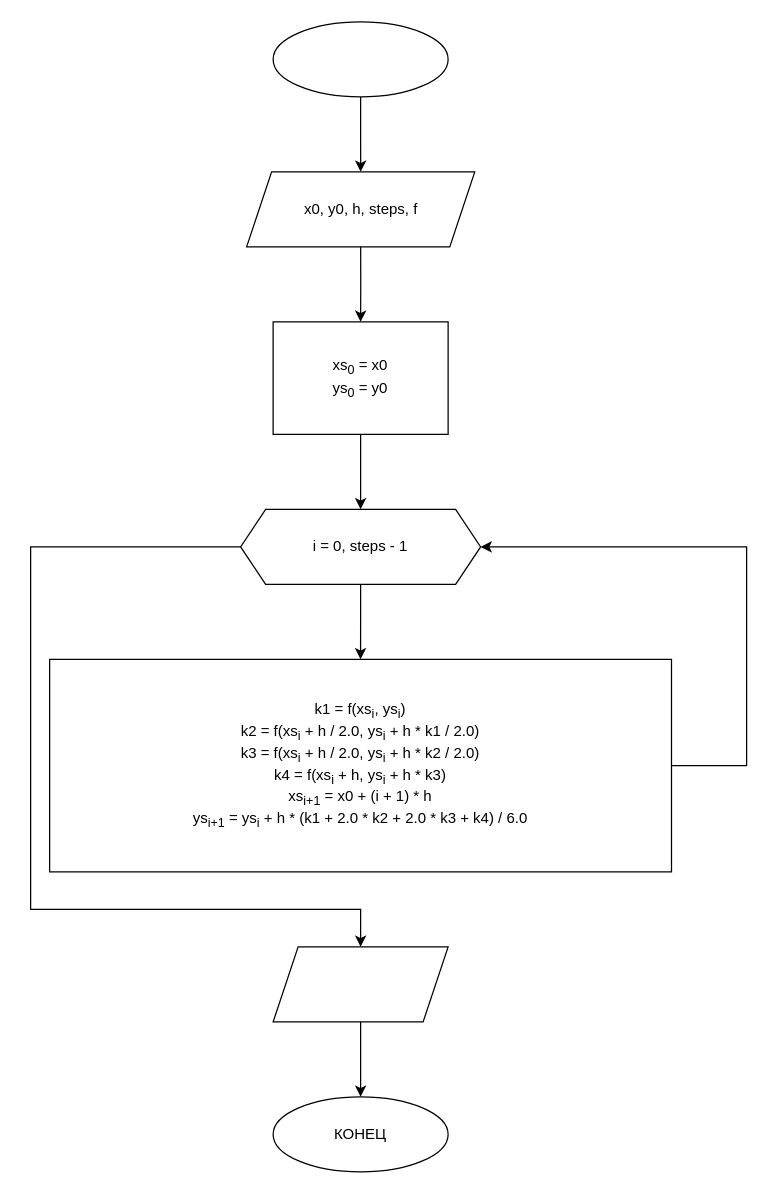
Some shapes in this 779 by 1194 pixel diagram are drawn without their labels. The centre of each missing label's shape, as x and y in pixels:
"xs, ys" goes at pixel 360 984.
"НАЧАЛО" goes at pixel 360 59.
